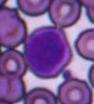L: (24, 26, 72, 78)
